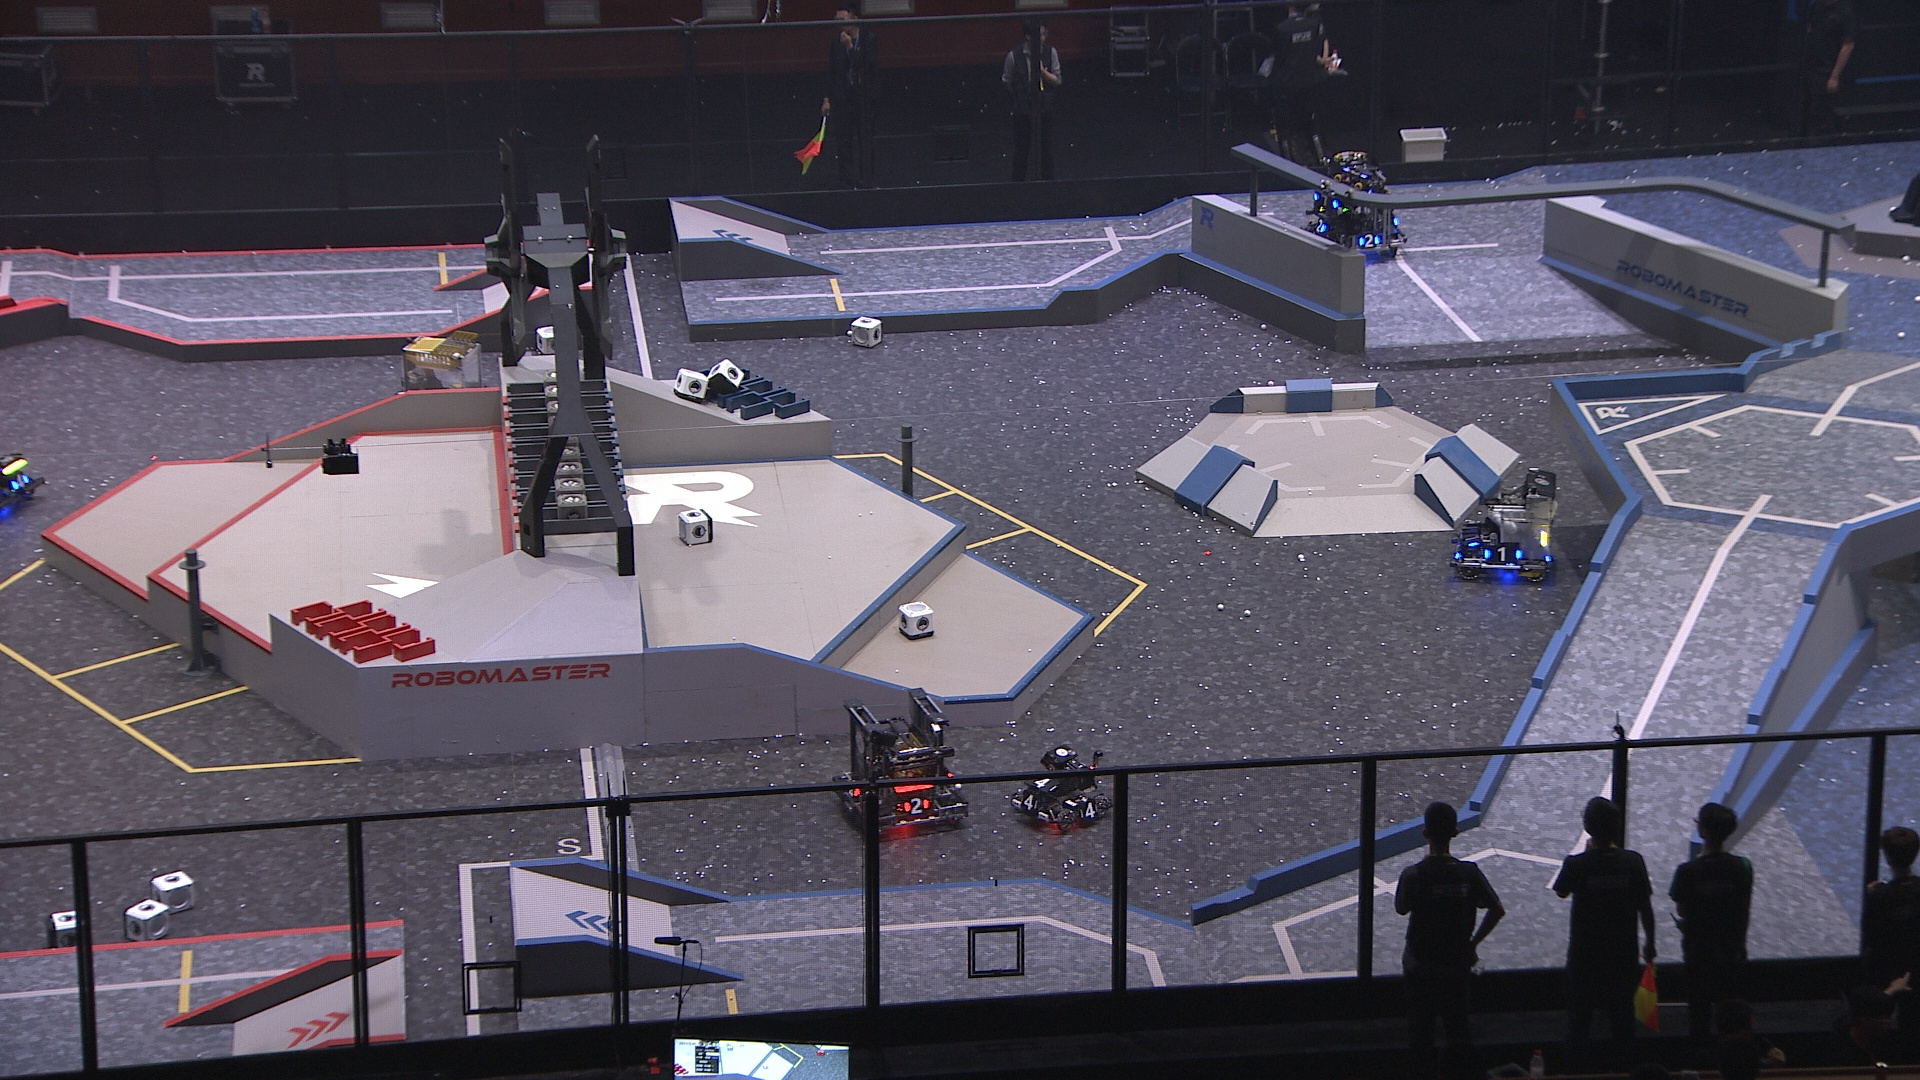armor: (901, 794, 934, 818), (1481, 545, 1524, 562), (1313, 190, 1342, 210), (1077, 799, 1102, 822), (7, 472, 32, 495), (1033, 775, 1058, 796), (1462, 527, 1482, 550), (1021, 793, 1040, 812), (845, 778, 861, 800), (1357, 233, 1379, 248), (1311, 216, 1327, 233)
base: (1884, 104, 1920, 235)
car: (831, 683, 975, 835), (389, 328, 508, 450), (1294, 145, 1410, 266), (1448, 465, 1561, 582), (1006, 738, 1116, 831)
watcher: (1305, 162, 1375, 243)
